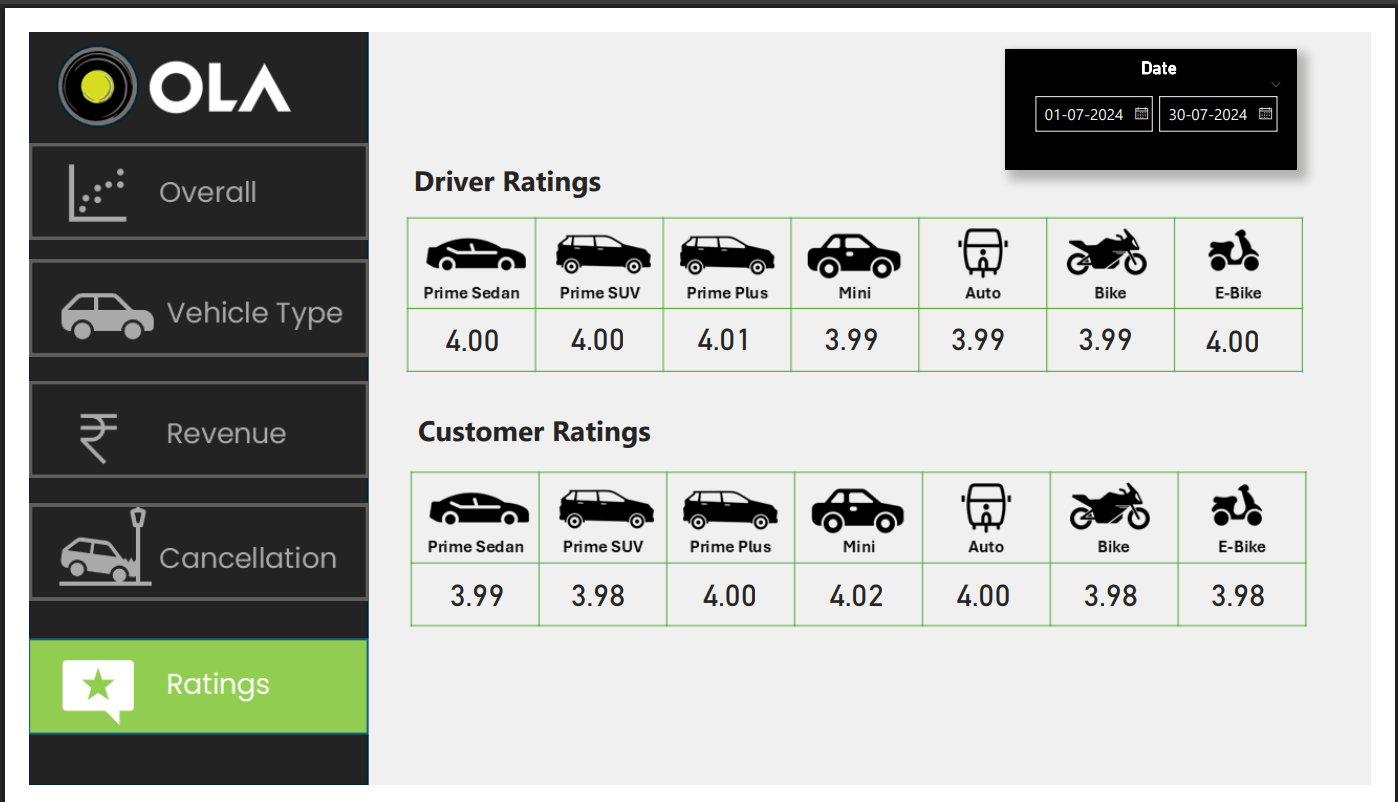

What the dashboard file says about the page in this screenshot:
{"tool":"powerbi","page":{"name":"Ratings","canvas":[1280,720],"ordinal":4},"visuals":[{"type":"actionButton","box":[0,105.7,323.8,91.9],"z":0},{"type":"actionButton","box":[0,216.8,323.8,91.9],"z":1000},{"type":"actionButton","box":[0,333.4,323.8,91.9],"z":2000},{"type":"actionButton","box":[0,450.1,323.8,91.9],"z":3000},{"type":"card","fields":{"Values":["Avg(July.Driver_Ratings)"]},"box":[362.6,263,120.1,58.8],"z":3001},{"type":"card","fields":{"Values":["Avg(July.Driver_Ratings)"]},"box":[481.8,262.3,121.2,58.4],"z":3002},{"type":"card","fields":{"Values":["Avg(July.Driver_Ratings)"]},"box":[602.9,262.3,121.2,58.4],"z":3003},{"type":"card","fields":{"Values":["Avg(July.Driver_Ratings)"]},"box":[724.1,262.3,121.2,58.4],"z":3004},{"type":"card","fields":{"Values":["Avg(July.Driver_Ratings)"]},"box":[845.3,262.3,121.2,58.4],"z":3005},{"type":"card","fields":{"Values":["Avg(July.Driver_Ratings)"]},"box":[966.4,262.3,121.2,58.4],"z":3006},{"type":"card","fields":{"Values":["Avg(July.Driver_Ratings)"]},"box":[1087.6,263.7,121.2,58.4],"z":3007},{"type":"card","fields":{"Values":["Avg(July.Customer_Rating)"]},"box":[372,508.9,111.2,52.7],"z":3008},{"type":"card","fields":{"Values":["Avg(July.Customer_Rating)"]},"box":[487.5,508.9,111.2,52.7],"z":3009},{"type":"card","fields":{"Values":["Avg(July.Customer_Rating)"]},"box":[612.9,508.9,111.2,52.7],"z":3010},{"type":"card","fields":{"Values":["Avg(July.Customer_Rating)"]},"box":[734.1,508.9,111.2,52.7],"z":3011},{"type":"card","fields":{"Values":["Avg(July.Customer_Rating)"]},"box":[855.2,508.9,111.2,52.7],"z":3012},{"type":"card","fields":{"Values":["Avg(July.Customer_Rating)"]},"box":[976.4,508.9,111.2,52.7],"z":3013},{"type":"card","fields":{"Values":["Avg(July.Customer_Rating)"]},"box":[1097.6,508.9,111.2,52.7],"z":3014},{"type":"textbox","box":[362,118.3,198.1,45.6],"z":3015},{"type":"textbox","box":[366.3,356.3,242.3,45.6],"z":3016},{"type":"slicer","title":"Date","fields":{"Values":["July.Date"]},"box":[930.8,15.7,278,115.5],"z":3017}]}

Visuals, with their boxes in screenshot pixels (x1, y1, x2, y2), scaled from the page's 1280x720 canvas onto the 1398x802 screenshot:
actionButton: [left=0, top=118, right=354, bottom=220]
actionButton: [left=0, top=241, right=354, bottom=344]
actionButton: [left=0, top=371, right=354, bottom=474]
actionButton: [left=0, top=501, right=354, bottom=604]
card - Avg(July.Driver_Ratings): [left=396, top=293, right=527, bottom=358]
card - Avg(July.Driver_Ratings): [left=526, top=292, right=659, bottom=357]
card - Avg(July.Driver_Ratings): [left=658, top=292, right=791, bottom=357]
card - Avg(July.Driver_Ratings): [left=791, top=292, right=923, bottom=357]
card - Avg(July.Driver_Ratings): [left=923, top=292, right=1056, bottom=357]
card - Avg(July.Driver_Ratings): [left=1055, top=292, right=1188, bottom=357]
card - Avg(July.Driver_Ratings): [left=1188, top=294, right=1320, bottom=359]
card - Avg(July.Customer_Rating): [left=406, top=567, right=528, bottom=626]
card - Avg(July.Customer_Rating): [left=532, top=567, right=654, bottom=626]
card - Avg(July.Customer_Rating): [left=669, top=567, right=791, bottom=626]
card - Avg(July.Customer_Rating): [left=802, top=567, right=923, bottom=626]
card - Avg(July.Customer_Rating): [left=934, top=567, right=1055, bottom=626]
card - Avg(July.Customer_Rating): [left=1066, top=567, right=1188, bottom=626]
card - Avg(July.Customer_Rating): [left=1199, top=567, right=1320, bottom=626]
textbox: [left=395, top=132, right=612, bottom=183]
textbox: [left=400, top=397, right=665, bottom=448]
"Date" slicer: [left=1017, top=17, right=1320, bottom=146]
